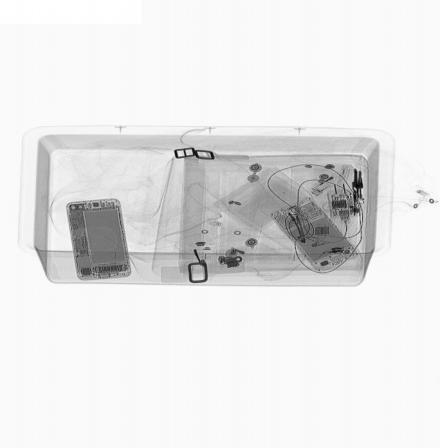Lighter: (308, 165, 354, 197)
